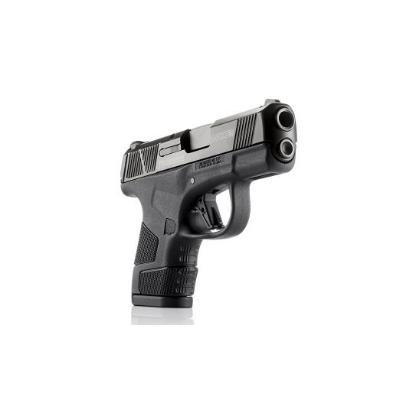gun: (113, 93, 300, 309)
